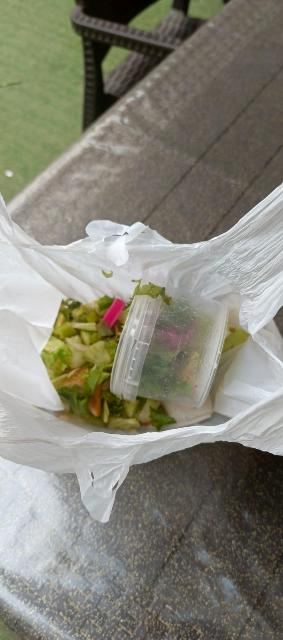Organik: (52, 296, 124, 428)
Plastik: (0, 211, 283, 495), (108, 286, 231, 405)
